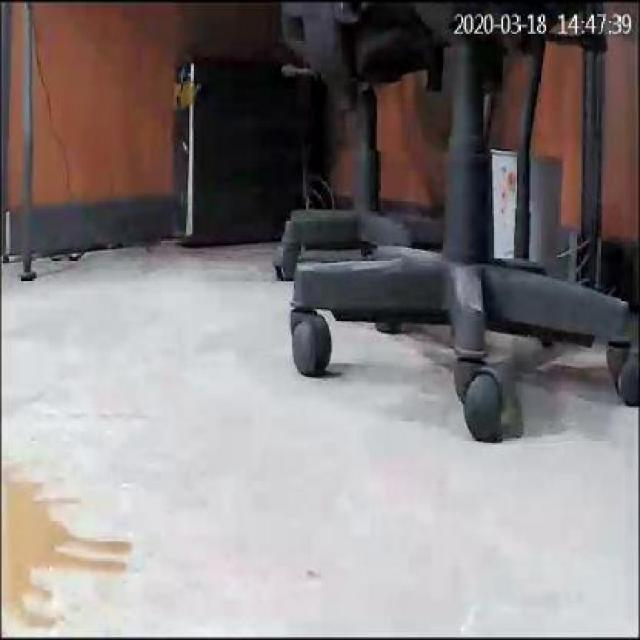spill: (2, 450, 142, 627)
